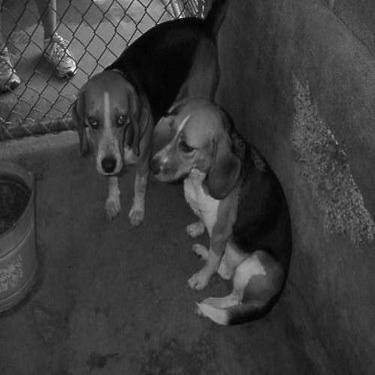dog: (57, 1, 238, 231), (130, 89, 295, 328)
